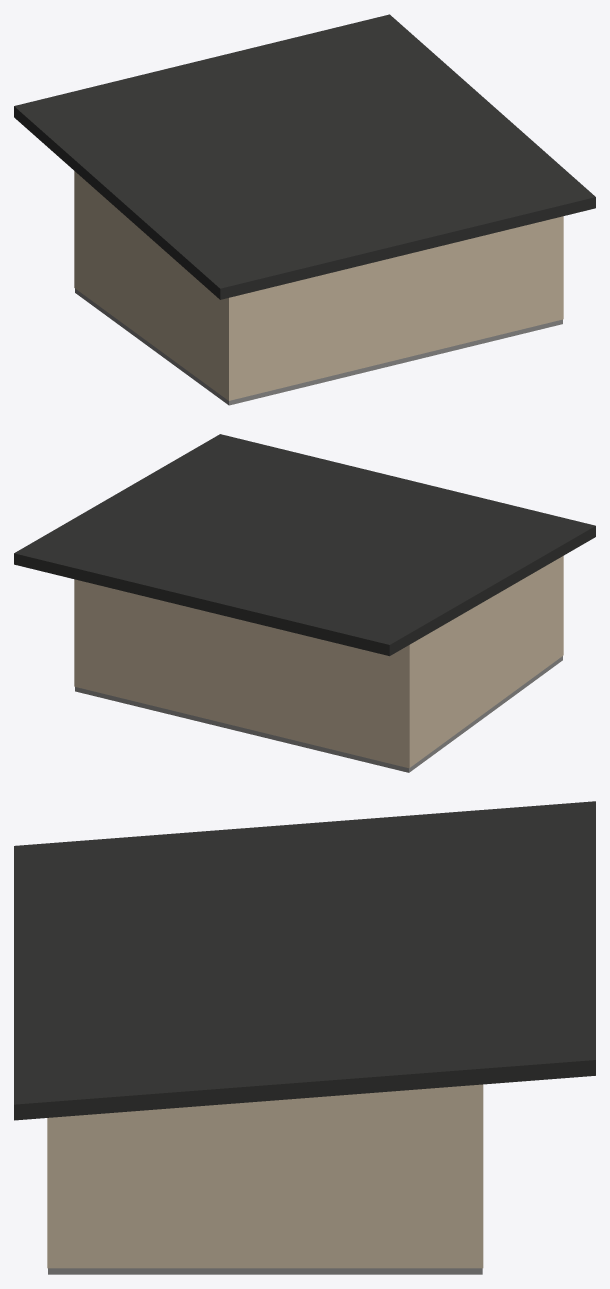
Rendered from laurel_a1_460_lod2.glb.
3 views of the same model, one above another, from view 1: azimuth 30°, elevation 25°; view 2: azimuth 150°, elevation 25°; view 3: azimuth 270°, elevation 25° (orthographic). The views are drawn at different scales.
Parts seen in each view (by area): view 1: Roof_shed, Sheathing_rear, Sheathing_x0, Slab; view 2: Roof_shed, Sheathing_front, Sheathing_x0, Slab; view 3: Roof_shed, Sheathing_x24, Slab.
Boxes of the visible parts, x1,y1,x2,y2 form: Roof_shed: [14, 14, 595, 299]; Sheathing_rear: [228, 216, 563, 400]; Sheathing_x0: [74, 171, 228, 400]; Slab: [75, 288, 562, 405]; Roof_shed: [14, 434, 595, 656]; Sheathing_front: [74, 579, 409, 768]; Sheathing_x0: [409, 556, 563, 767]; Slab: [75, 656, 562, 772]; Roof_shed: [14, 801, 595, 1120]; Sheathing_x24: [48, 1084, 482, 1268]; Slab: [48, 1268, 482, 1274].
Bounding box in the file's own units: 8.23 × 3.4 × 7.82.
